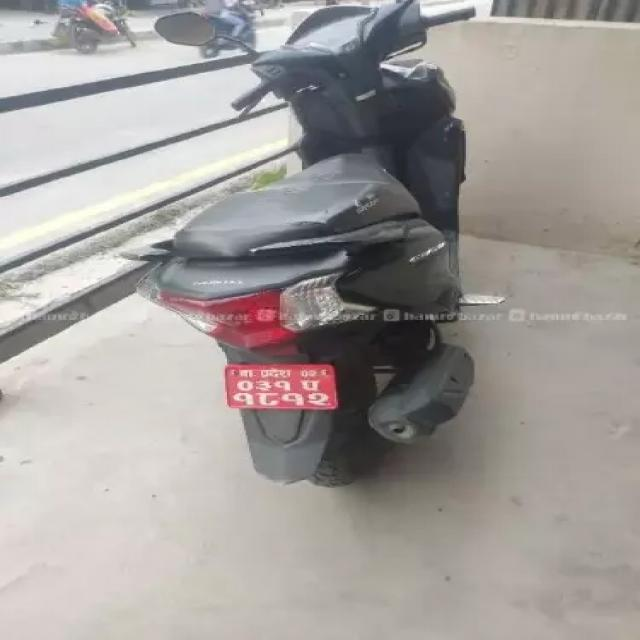License-plate: (224, 357, 339, 413)
